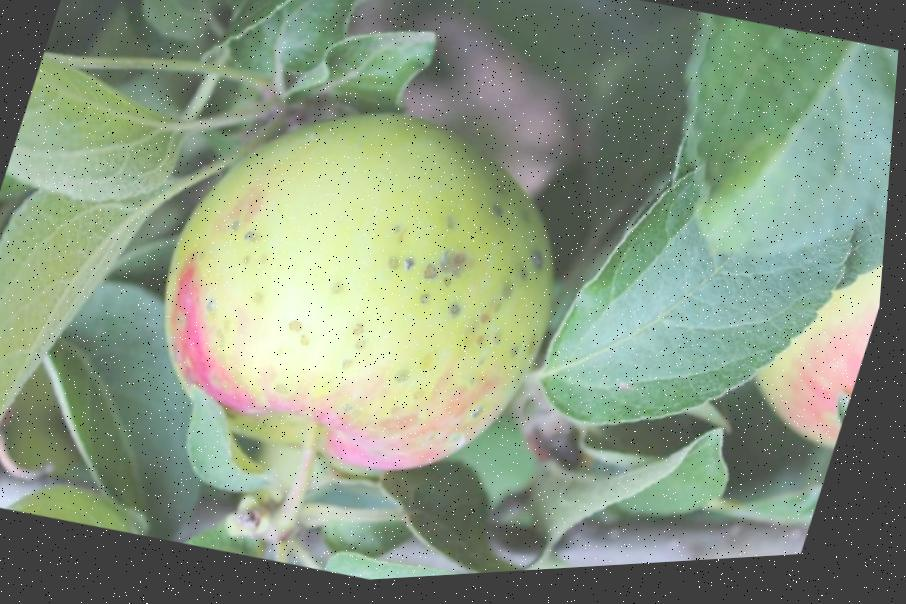SCAB: (84, 34, 683, 547)
